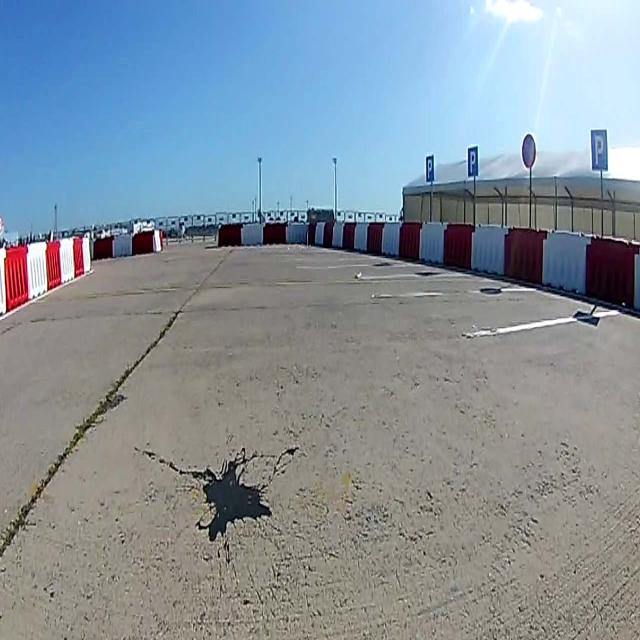park: (590, 129, 608, 171), (467, 146, 478, 178), (425, 155, 434, 183)
parkyasak: (522, 133, 536, 169)
